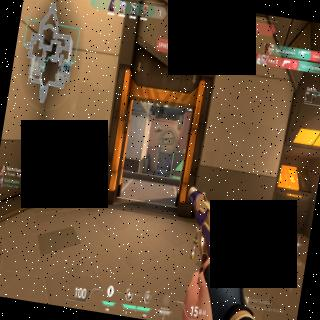ENEMY-BODY: (167, 160, 172, 173)
ENEMY-HEAD: (170, 160, 172, 164)
